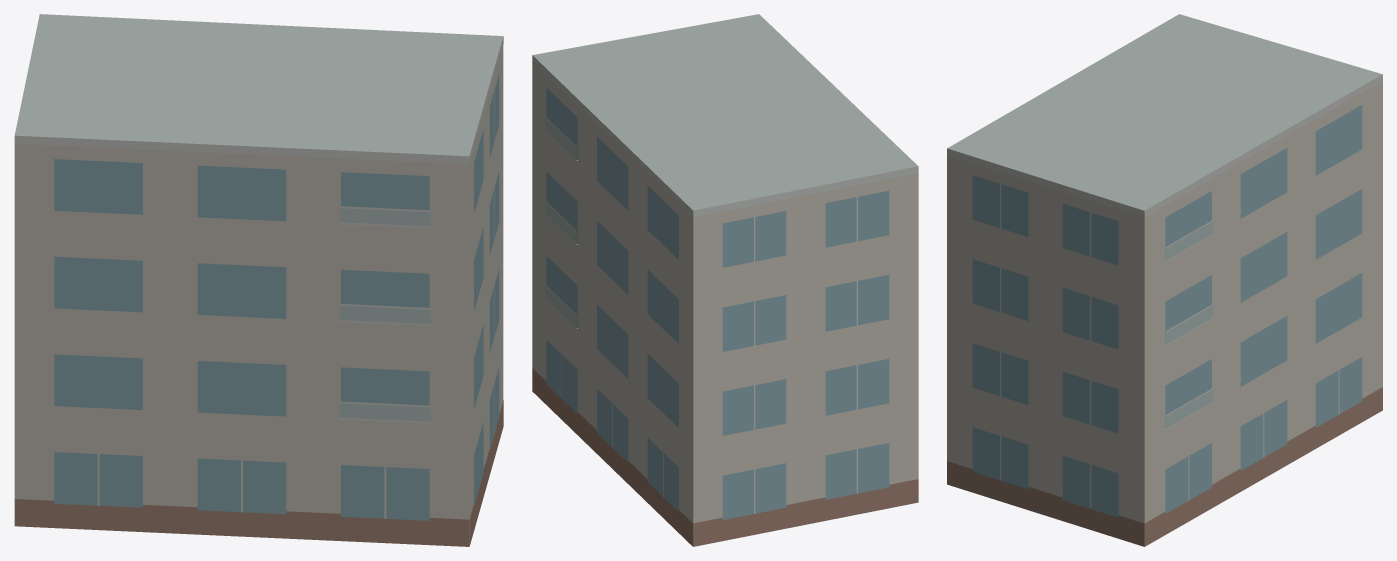
File: survey-upis-32531221.glb
3 renders of one model, left to right at view 1: azimuth 30°, elevation 25°; view 2: azimuth 150°, elevation 25°; view 3: azimuth 270°, elevation 25°, orthographic. The views are drawn at different scales.
Visible parts, largest first — view 1: survey-upis-32531221.tmp; view 2: survey-upis-32531221.tmp; view 3: survey-upis-32531221.tmp.
Boxes of the visible parts, left/top/right/bottom form: survey-upis-32531221.tmp: left=14, top=14, right=503, bottom=546; survey-upis-32531221.tmp: left=532, top=14, right=918, bottom=546; survey-upis-32531221.tmp: left=947, top=14, right=1382, bottom=546.
Size of the model in its own units: 15.14 by 12.05 by 14.17.
